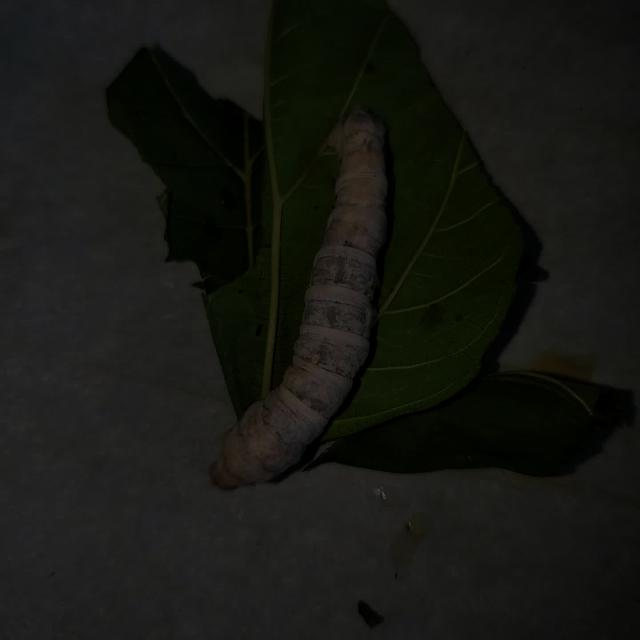Grasserie: (199, 90, 424, 506)
